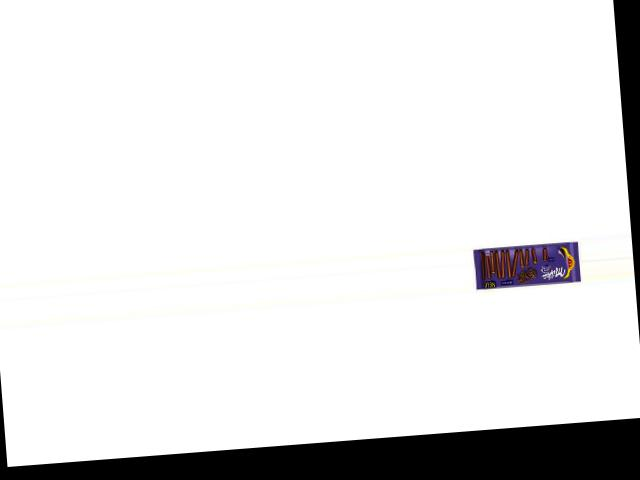chocolate: (470, 236, 582, 290)
